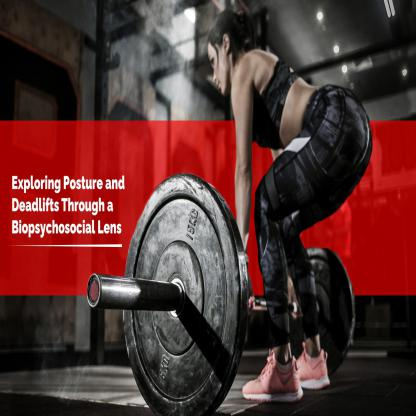Barbell: (117, 170, 250, 416)
